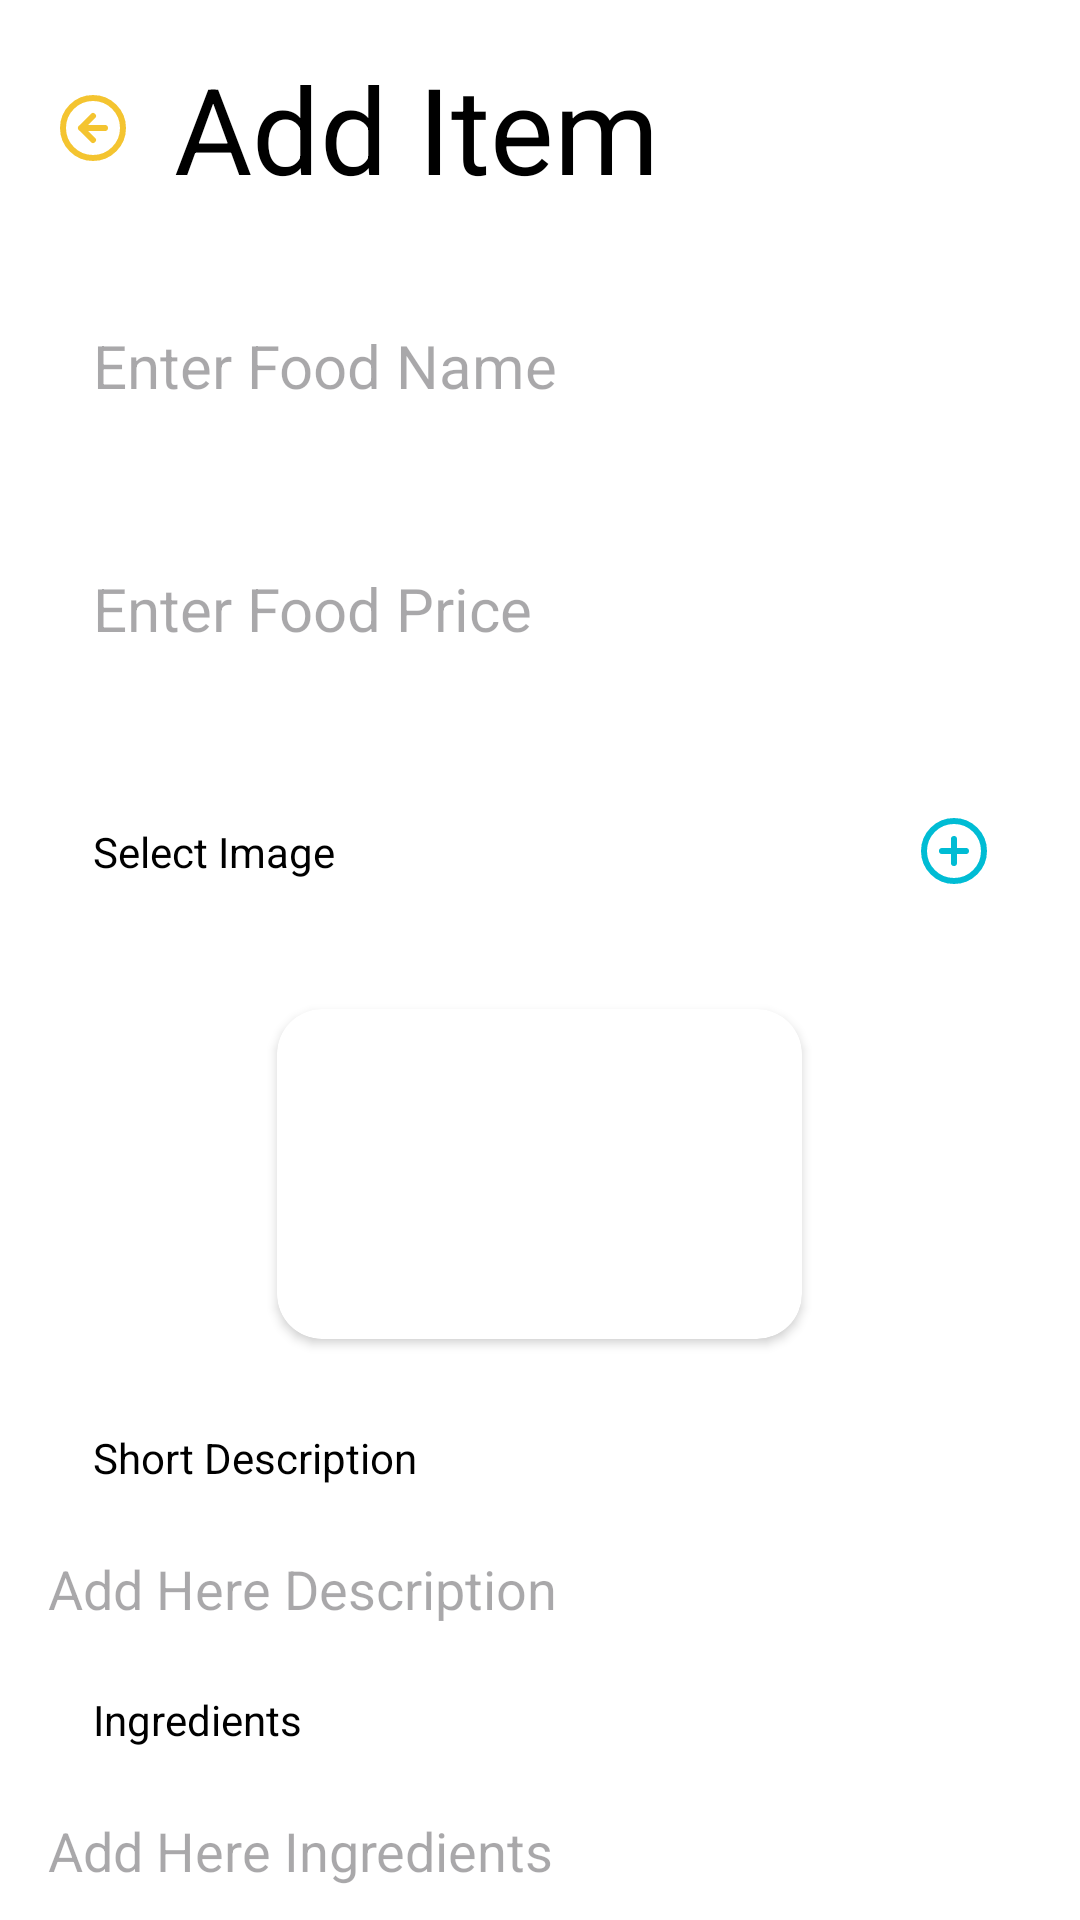

Icon bounding boxes for this 1080*1920 phone screenshot, format (x1, y1, x2, y2):
arrow left: (60, 95, 126, 161)
